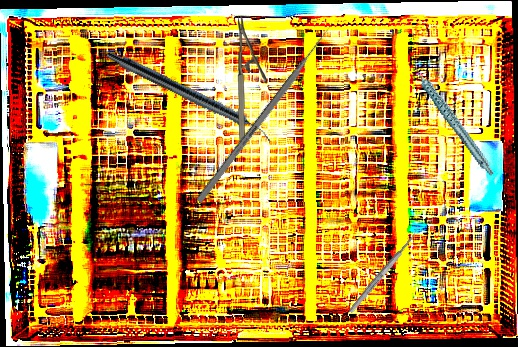Handpiece: (103, 48, 277, 144), (410, 47, 495, 188)
Needle Holder: (235, 15, 269, 146)
Pusher: (195, 22, 336, 204)
Surgical Spoon: (347, 225, 424, 315)
